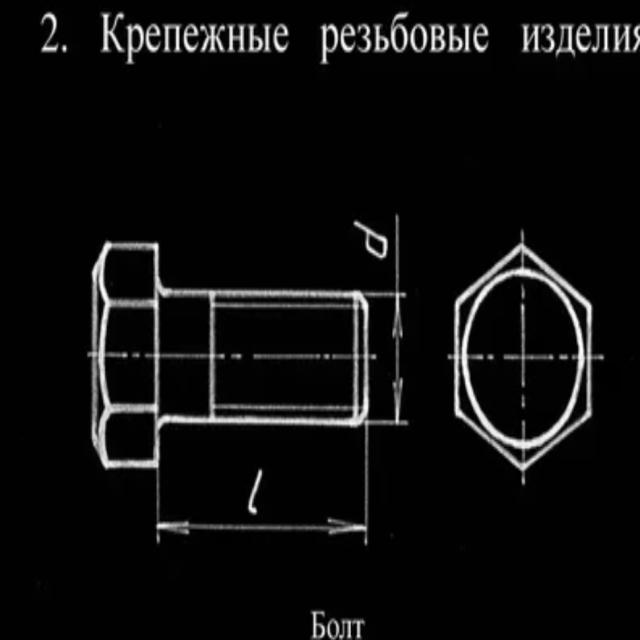marking_line: (160, 517, 367, 545), (391, 292, 413, 431)
